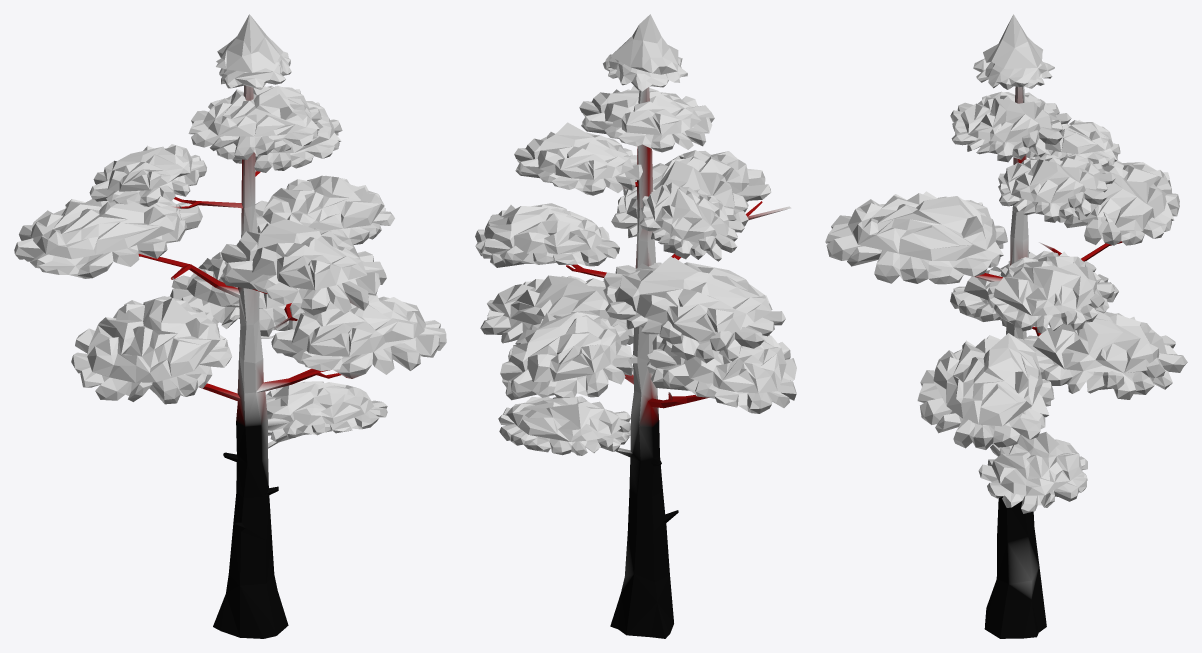
Rendered from tree2.fbx.
The picture shows the model from 3 angles, left to right: view 1: azimuth 30°, elevation 25°; view 2: azimuth 150°, elevation 25°; view 3: azimuth 270°, elevation 25°; orthographic projection.
Parts seen in each view (by area): view 1: snow, pine; view 2: snow, pine; view 3: snow, pine.
Boxes of the visible parts, box(x1,y1,x2,y2) form: snow: box(30, 14, 425, 425); pine: box(14, 51, 446, 638); snow: box(484, 14, 786, 441); pine: box(475, 54, 796, 638); snow: box(848, 14, 1171, 495); pine: box(825, 58, 1187, 638).
Size of the model in its own units: 240 by 401 by 216.
